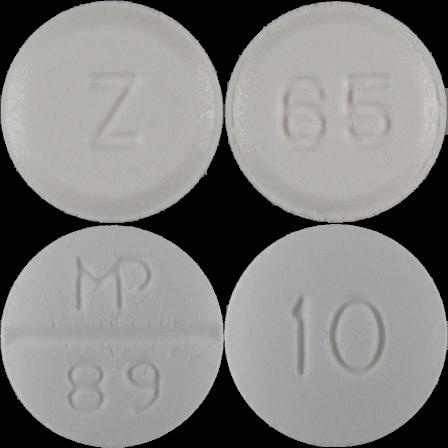53808-0730: (0, 0, 224, 224)
